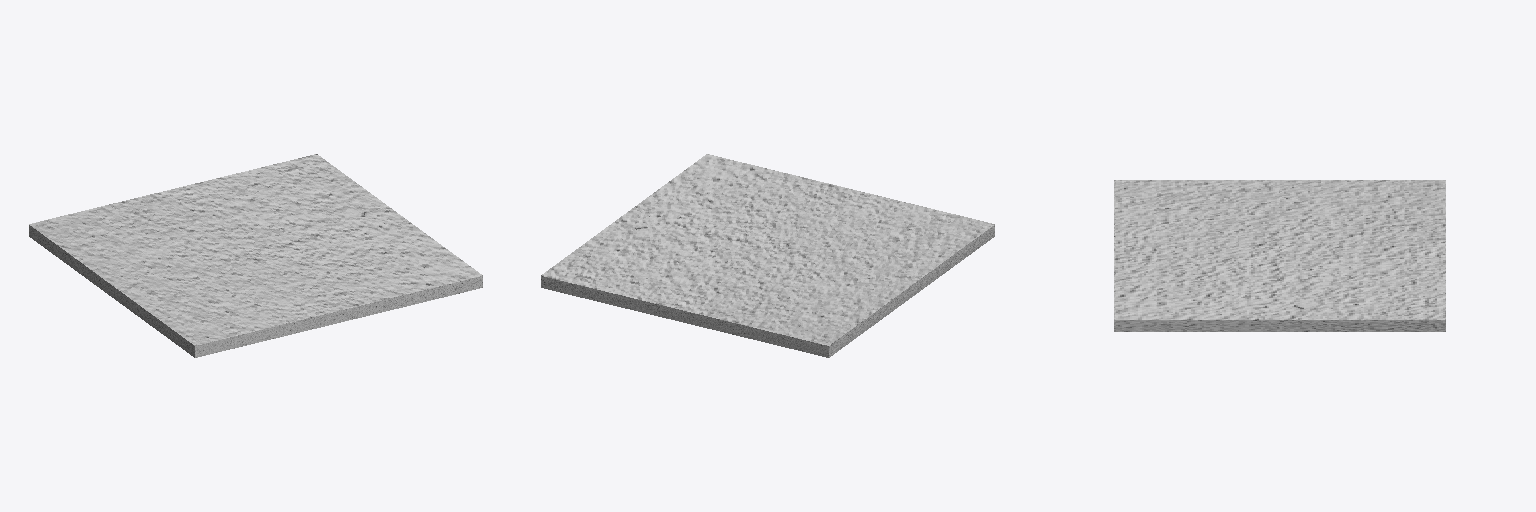
3 renders of one model, left to right at view 1: azimuth 30°, elevation 25°; view 2: azimuth 150°, elevation 25°; view 3: azimuth 270°, elevation 25°, orthographic.
Parts seen in each view (by area): view 1: Cube.001; view 2: Cube.001; view 3: Cube.001.
Boxes of the visible parts, x1,y1,x2,y2 form: Cube.001: [29, 154, 482, 357]; Cube.001: [541, 154, 994, 357]; Cube.001: [1114, 180, 1445, 331].
Bounding box in the file's own units: 10 × 0.4 × 10.
1 materials, 1 textured.